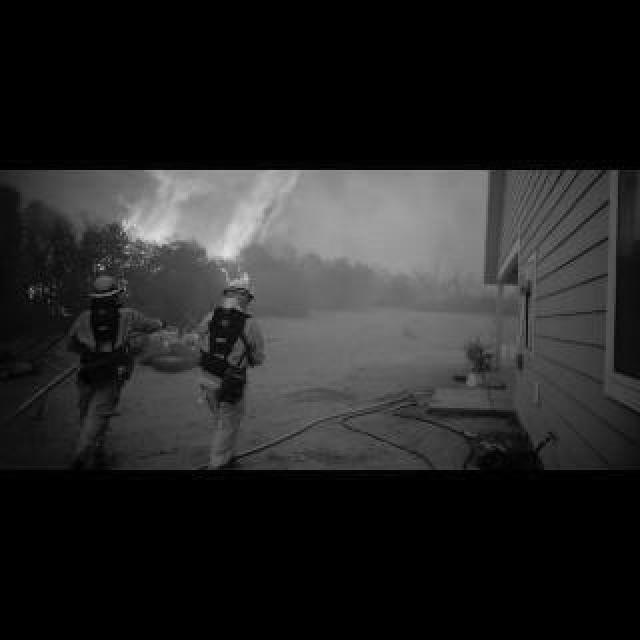Fire: (192, 170, 302, 284), (100, 172, 192, 266)
